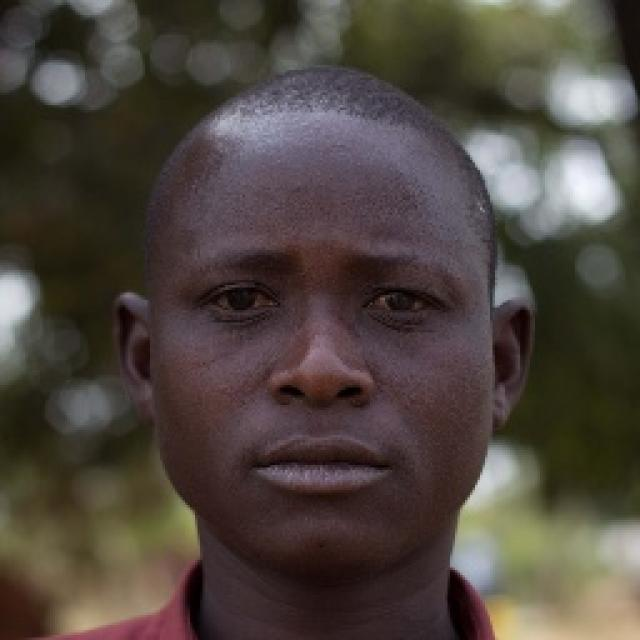earlobe: (488, 384, 518, 431), (128, 382, 158, 422)
eye: (204, 282, 284, 316), (364, 285, 438, 319)
nose: (269, 383, 372, 428)
wholeear: (488, 296, 536, 431), (114, 292, 158, 423)
